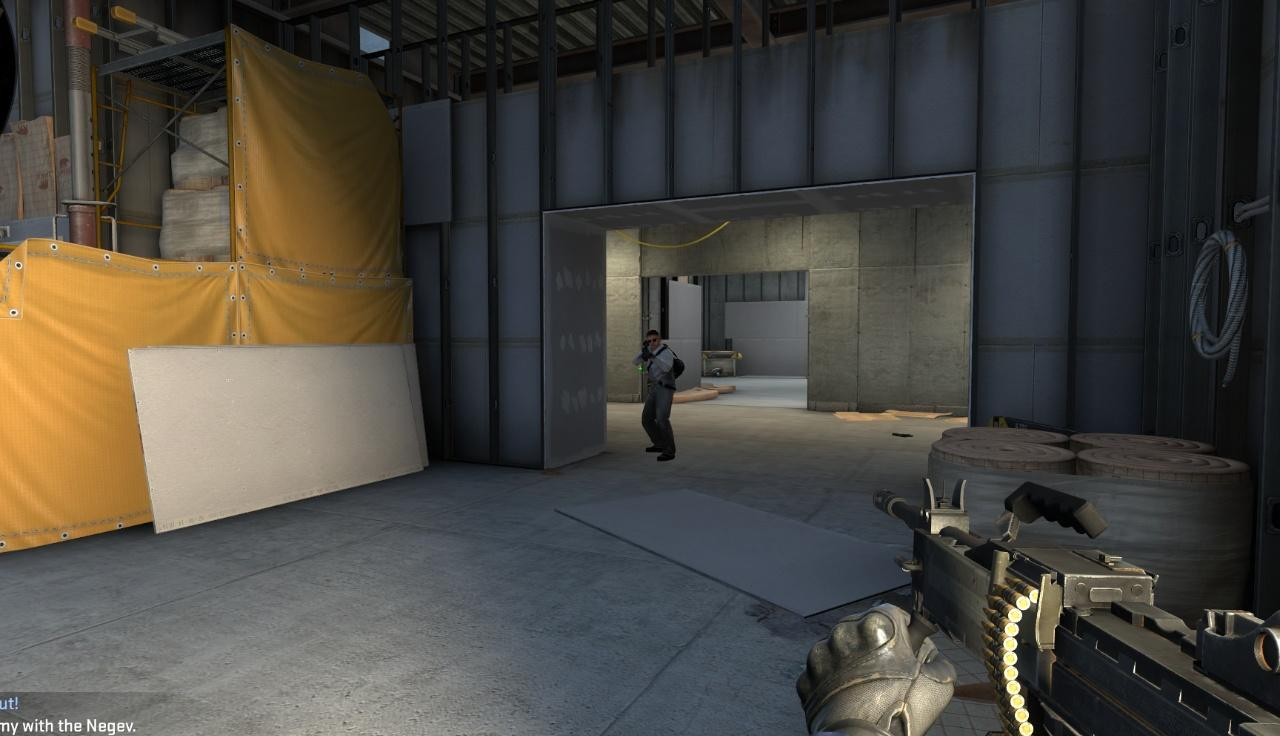rifle: (831, 474, 1280, 736)
tt: (635, 331, 680, 459)
tthead: (646, 331, 660, 349)
